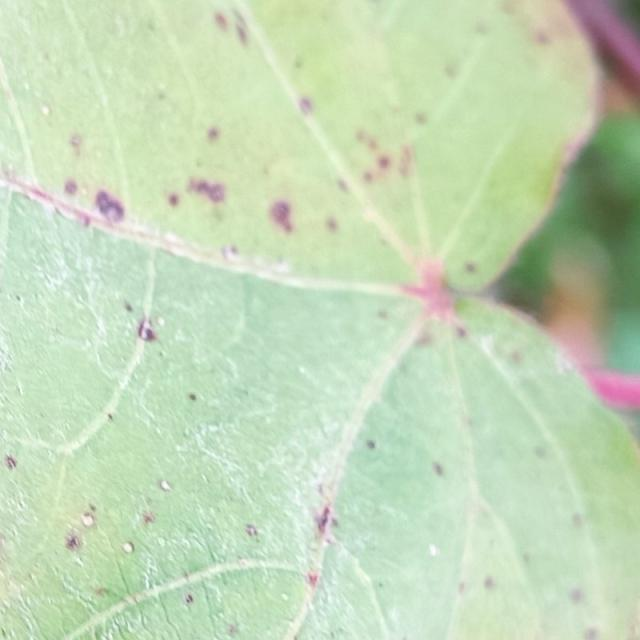Bacterial_Blight: (58, 490, 164, 577), (177, 159, 232, 219), (355, 128, 411, 185), (303, 497, 350, 544), (84, 185, 135, 228), (263, 191, 304, 244), (124, 309, 172, 350), (64, 506, 100, 551), (197, 116, 230, 148), (232, 11, 249, 43), (356, 130, 379, 153), (1, 530, 11, 567), (413, 330, 433, 348), (64, 533, 82, 551), (77, 209, 94, 227), (298, 96, 314, 114), (63, 179, 79, 196), (214, 12, 228, 31), (274, 258, 291, 273), (569, 587, 584, 603), (584, 625, 599, 640), (69, 133, 83, 149), (444, 62, 458, 78), (82, 511, 96, 527), (141, 511, 156, 525), (226, 244, 240, 259), (4, 454, 17, 470), (414, 111, 428, 125), (245, 523, 258, 538), (325, 217, 338, 232), (535, 31, 550, 44), (432, 461, 444, 477), (455, 325, 468, 339), (534, 446, 548, 459), (511, 351, 524, 365), (167, 192, 179, 207), (572, 513, 584, 528), (336, 178, 348, 193), (307, 572, 318, 588), (484, 576, 496, 590), (464, 261, 478, 273), (159, 479, 171, 492), (428, 543, 439, 557), (227, 623, 239, 635), (94, 587, 108, 597), (377, 309, 389, 320), (123, 301, 134, 313), (365, 439, 376, 450), (157, 90, 167, 102), (187, 392, 198, 402), (363, 172, 373, 183), (40, 105, 50, 116), (522, 552, 531, 564), (458, 583, 467, 594), (88, 503, 97, 514), (106, 412, 114, 422), (15, 294, 22, 303), (377, 581, 384, 589)
Cotton: (0, 0, 639, 639)
